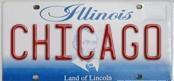placa de veiculo: (3, 0, 165, 78)
